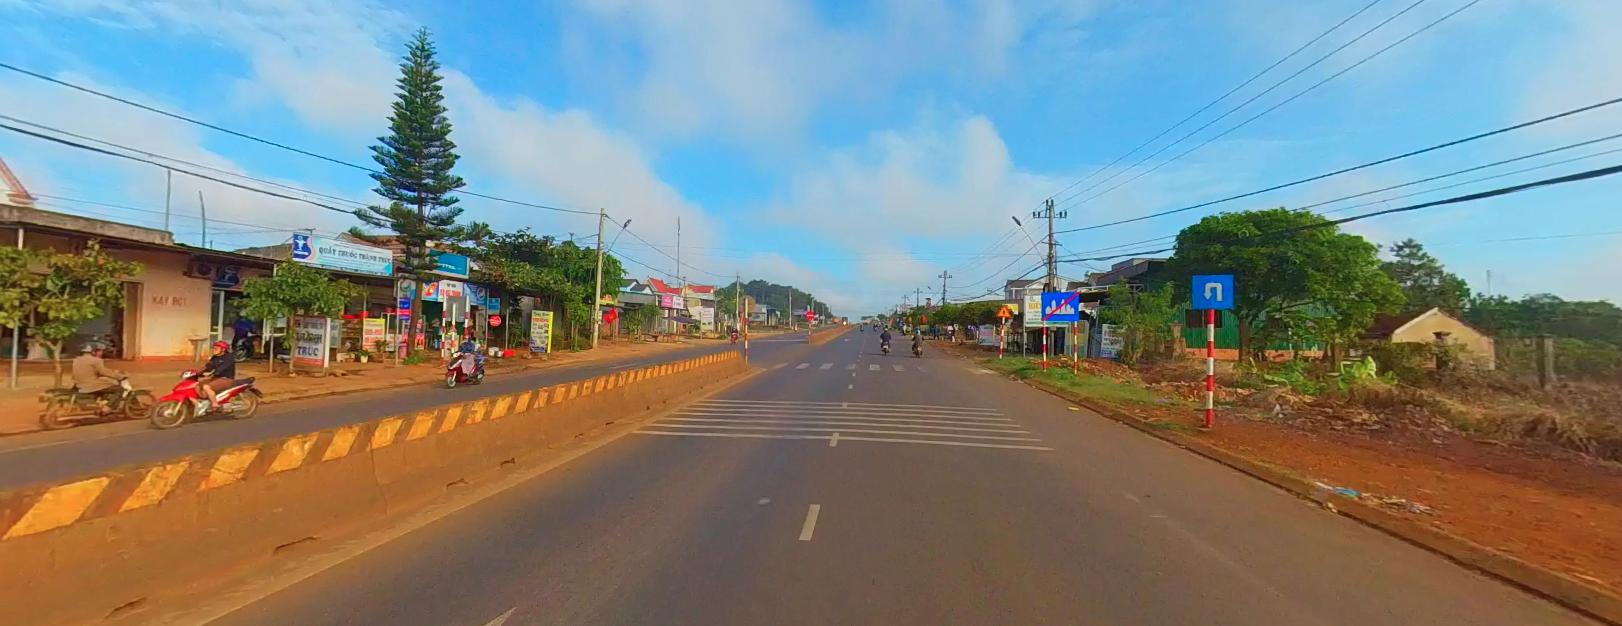Cam nguoc chieu: (806, 309, 813, 317)
Nguy hiem: (996, 303, 1012, 316)
